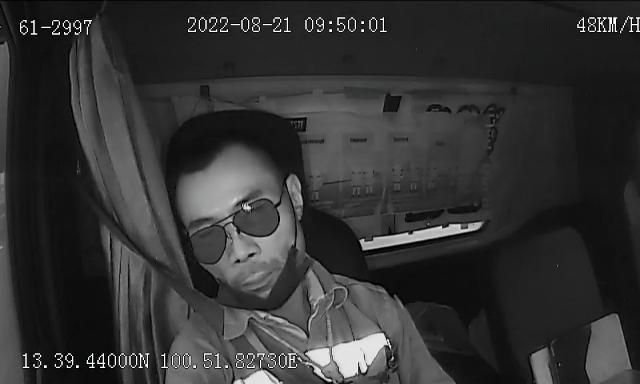SafeDriving: (416, 96, 458, 119), (238, 194, 270, 218)
Seatbelt: (83, 186, 330, 384)
